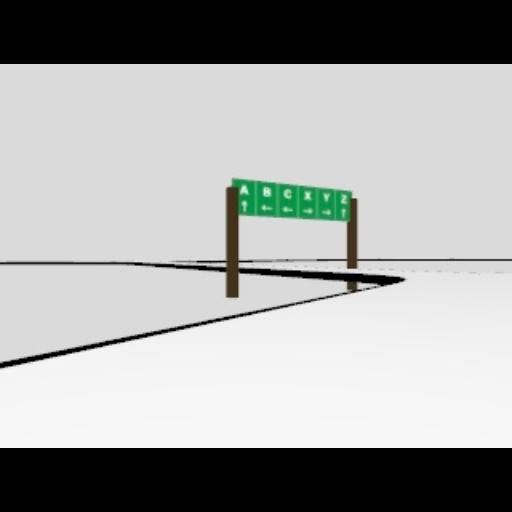A: (239, 185, 249, 195)
B: (263, 186, 271, 198)
C: (283, 188, 293, 200)
Left: (260, 204, 272, 212), (282, 206, 294, 214)
Right: (302, 208, 314, 214), (320, 210, 332, 216)
Straight: (240, 200, 248, 214), (341, 208, 347, 220)
X: (303, 190, 311, 202)
Y: (322, 192, 330, 202)
Z: (340, 194, 348, 204)
